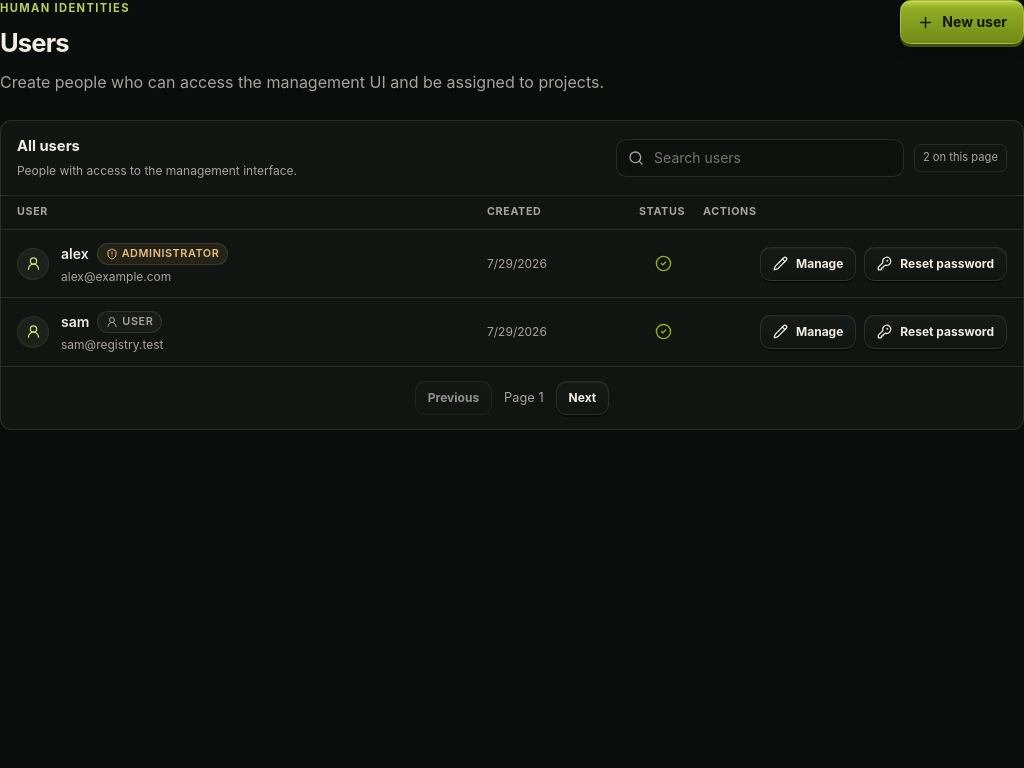
UsersPage › confirms SMTP delivery without rendering the reset URL
The image size is (1024, 768).
What coordinates should you click on to do the following:
click the button "Reset password" in the row of "sam@registry.test"
I would click on:
 (936, 332)
Its box is top-left (864, 315), bottom-right (1007, 349).
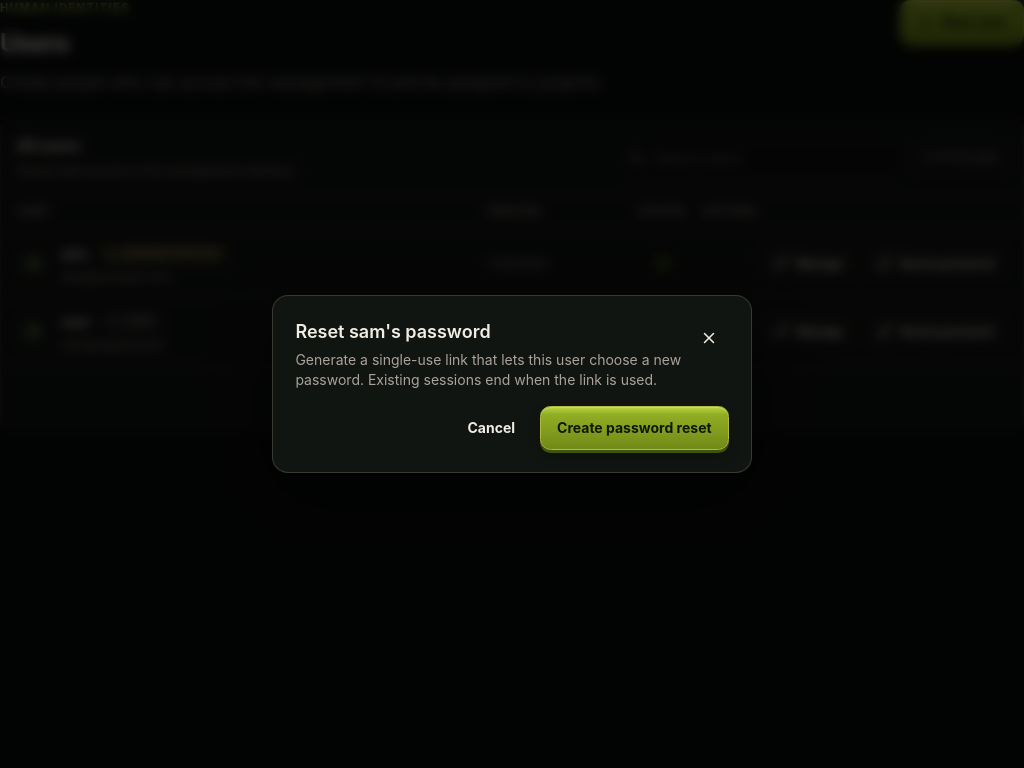
What coordinates should you click on to do the following:
click the button "Create password reset"
I would click on:
 (634, 428)
Its box is top-left (540, 406), bottom-right (729, 450).
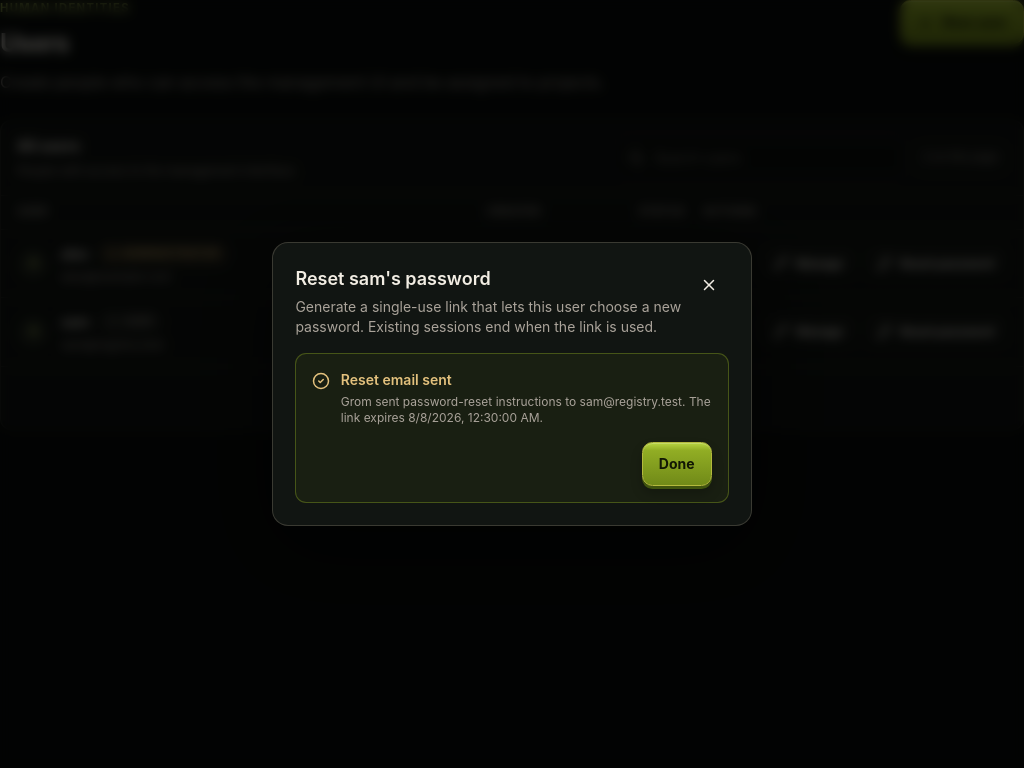
Expected: the text "Reset email sent" is shown, top-left (341, 371), bottom-right (452, 388)
